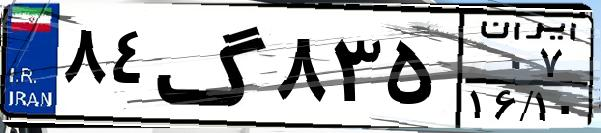0: (560, 70, 590, 125), (508, 27, 537, 80)
1: (470, 70, 495, 125), (535, 70, 560, 125)
3: (330, 28, 385, 110)
4: (110, 28, 156, 98)
5: (385, 28, 445, 110)
6: (495, 70, 520, 125)
7: (537, 27, 568, 80)
8: (270, 28, 330, 110), (57, 26, 110, 100)
گ: (156, 12, 270, 120)
